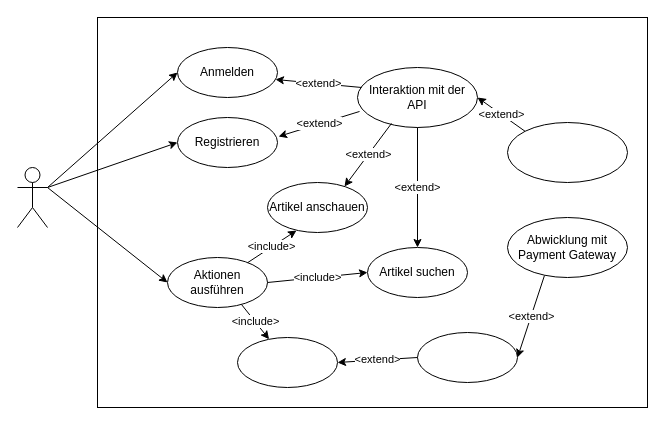
This 665x425 diagram has some shape labels left out. Here are the shapes that lost their labels. From the top down, the box of each, then its label:
(506, 122, 628, 182): Abgleich mit der Datenbank
(16, 166, 48, 228): Actor
(236, 336, 338, 388): Artikel kaufen
(416, 332, 518, 382): Bezahlen
